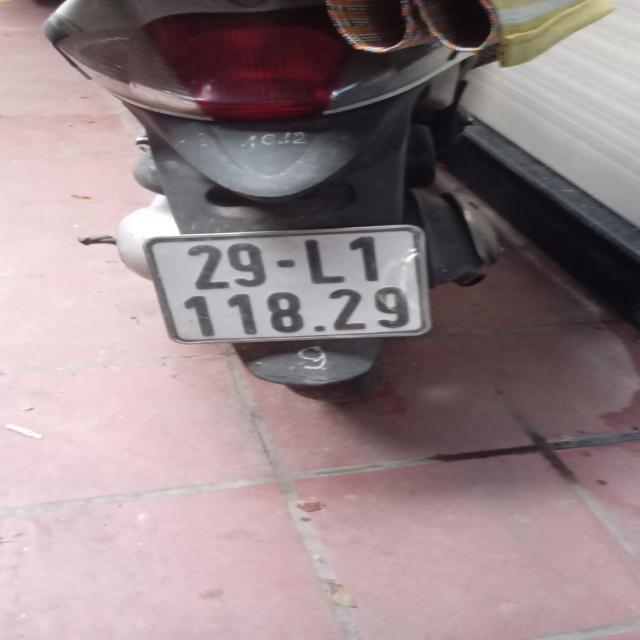license: (144, 223, 432, 344)
